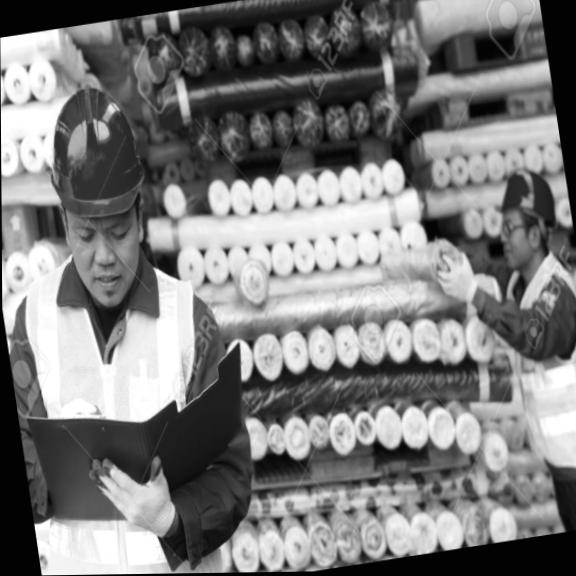safety_vest: (9, 264, 237, 576), (492, 262, 576, 476)
